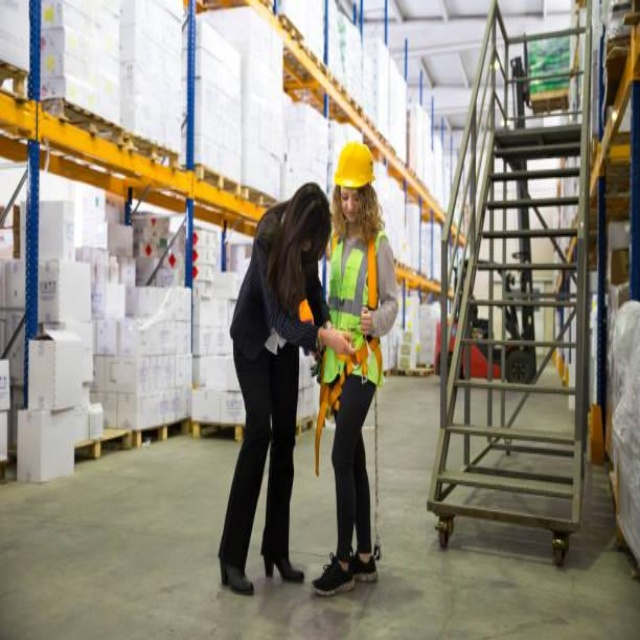Arnes_seguridad: (317, 224, 388, 473)
